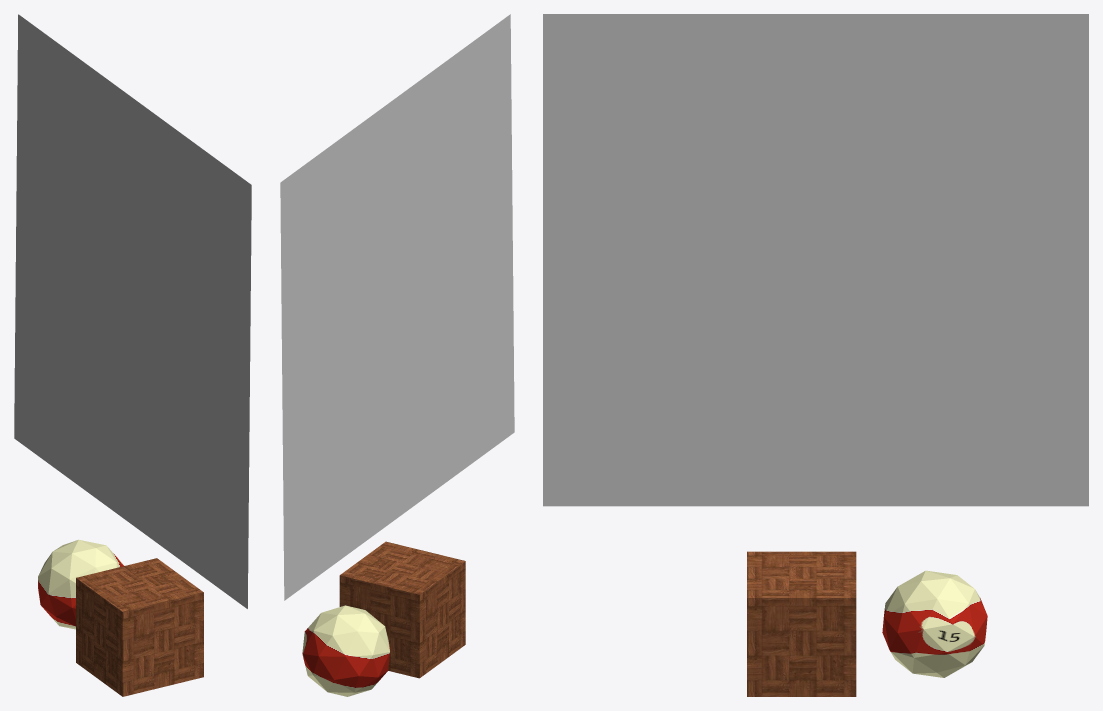
3 views of the same model, side by side, from view 1: azimuth 30°, elevation 25°; view 2: azimuth 150°, elevation 25°; view 3: azimuth 270°, elevation 25° (orthographic). The views are drawn at different scales.
Parts seen in each view (by area): view 1: Plane, Cube.001, Icosphere; view 2: Plane, Cube.001, Icosphere; view 3: Plane, Cube.001, Icosphere.
Part boxes in pixels (<box>): Plane: <box>14,14,251,608</box>; Cube.001: <box>76,558,203,696</box>; Icosphere: <box>38,539,124,629</box>; Plane: <box>280,14,514,600</box>; Cube.001: <box>339,541,465,678</box>; Icosphere: <box>302,605,390,696</box>; Plane: <box>543,14,1088,506</box>; Cube.001: <box>747,551,856,696</box>; Icosphere: <box>882,570,987,677</box>.
Size of the model in its own units: 2 by 13.33 by 9.98.
3 materials, 2 textured.
